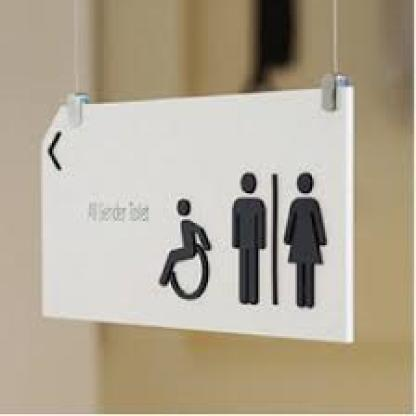toilet: (225, 164, 332, 312)
